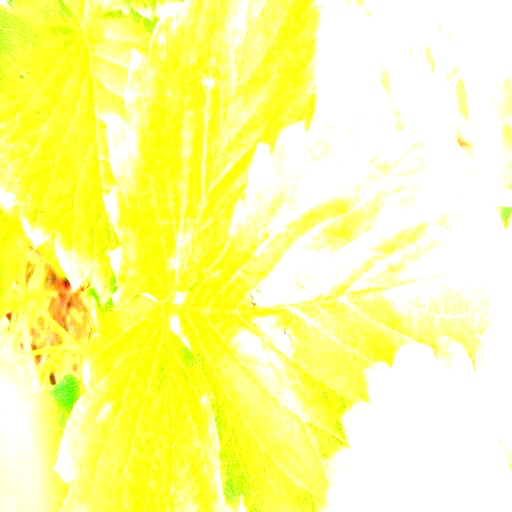Leaf Spot: (177, 105, 501, 511), (104, 0, 325, 312), (320, 336, 511, 511), (481, 199, 511, 394)
